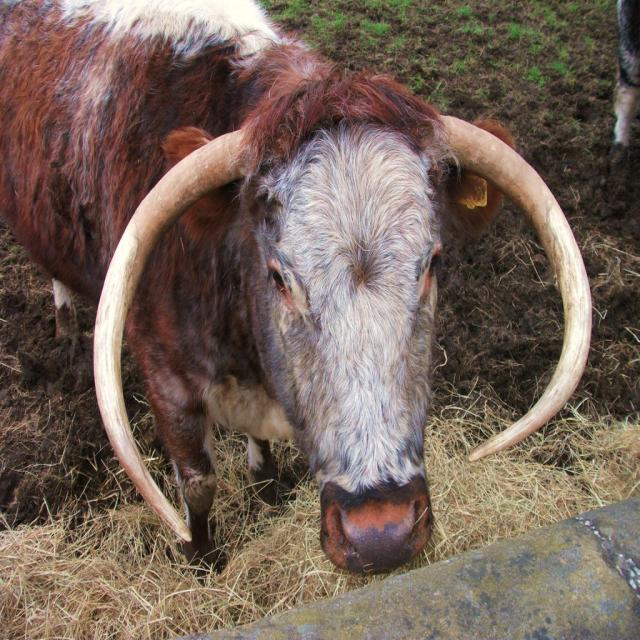Cattle: (0, 0, 592, 587)
